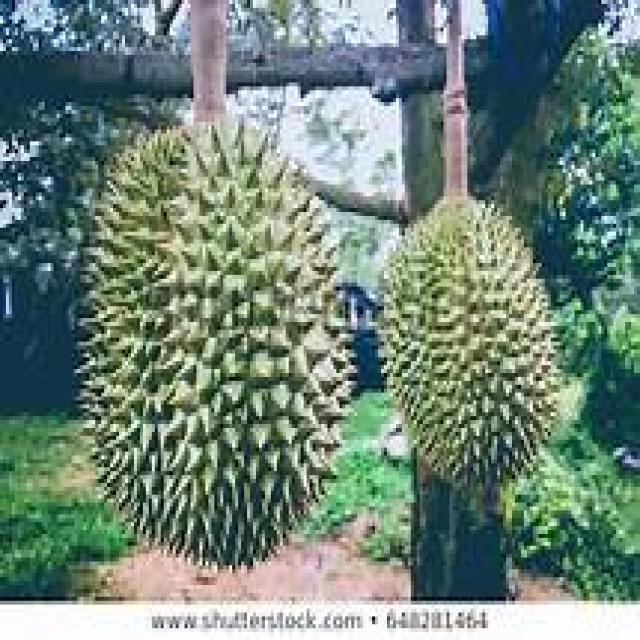immature: (69, 114, 363, 574), (372, 189, 566, 490)
